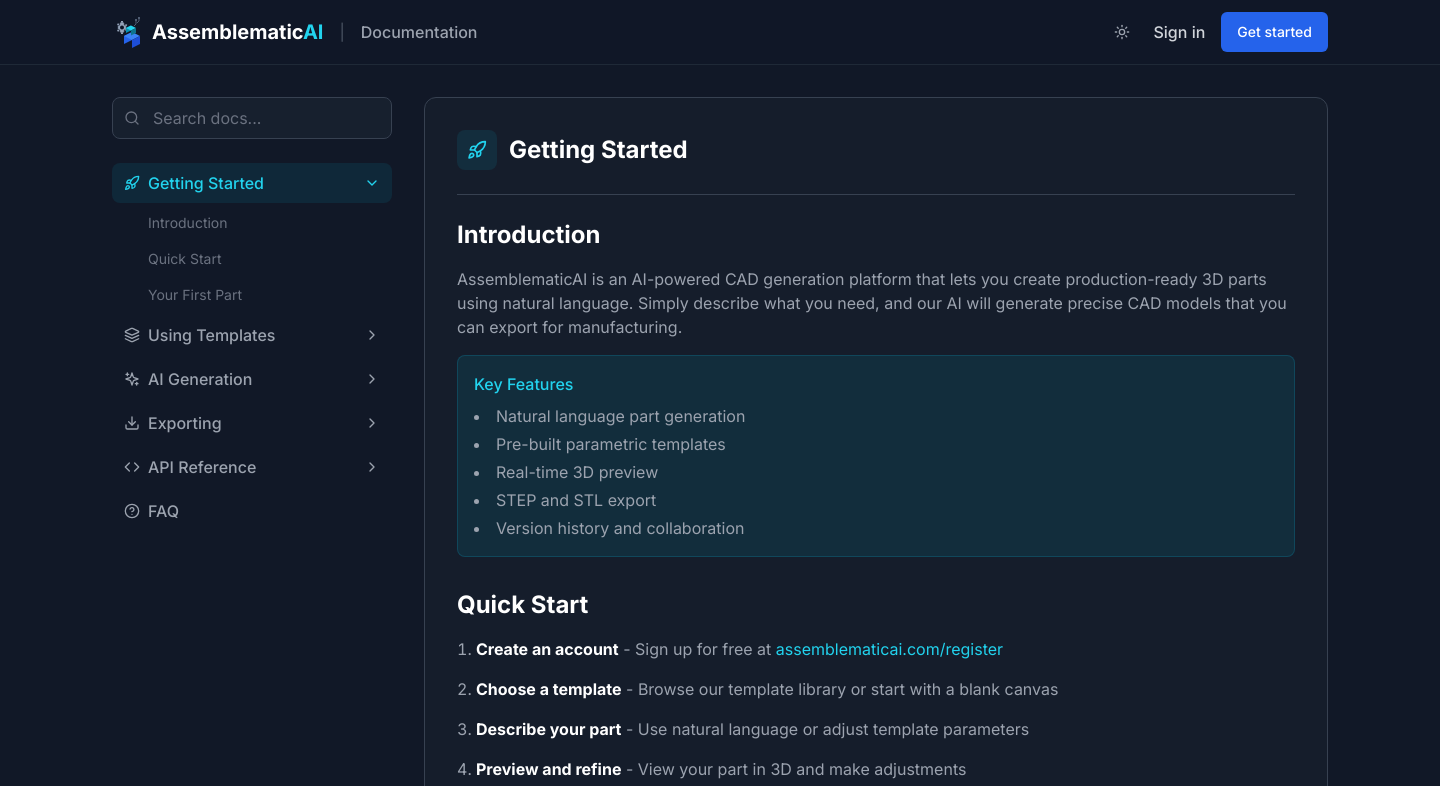
Scenario: DocsPage › AI Generation Content › displays prompt writing tips when navigated
The image size is (1440, 786).
Click the button "AI Generation" at (252, 379), box [112, 359, 392, 399]
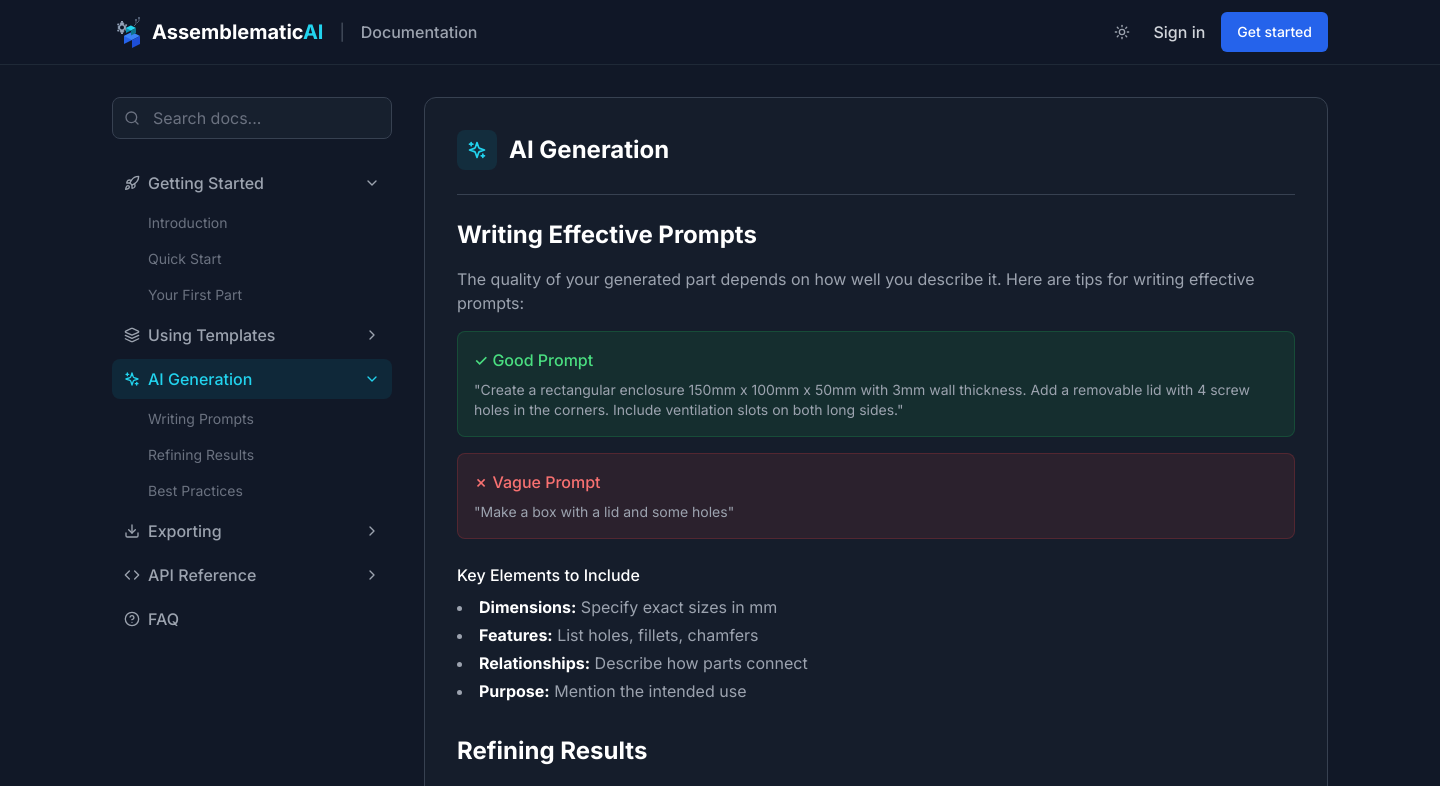
Now the heading "Writing Effective Prompts" is shown, box [457, 220, 757, 249]
